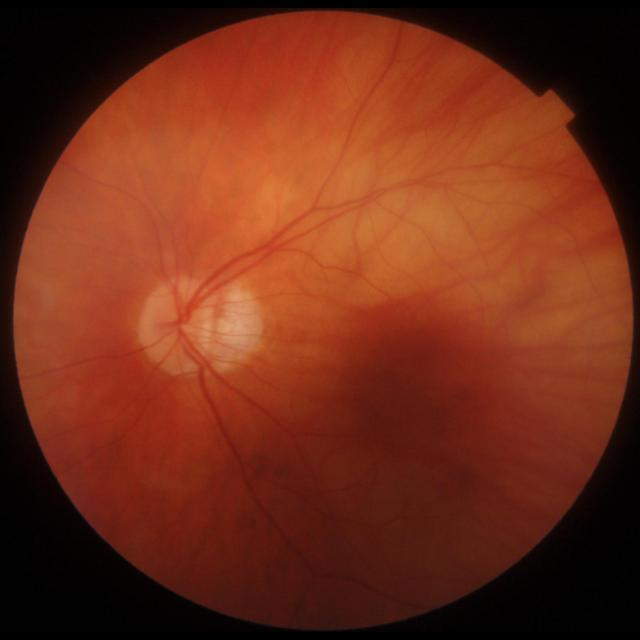OD: (139, 280, 212, 373)
